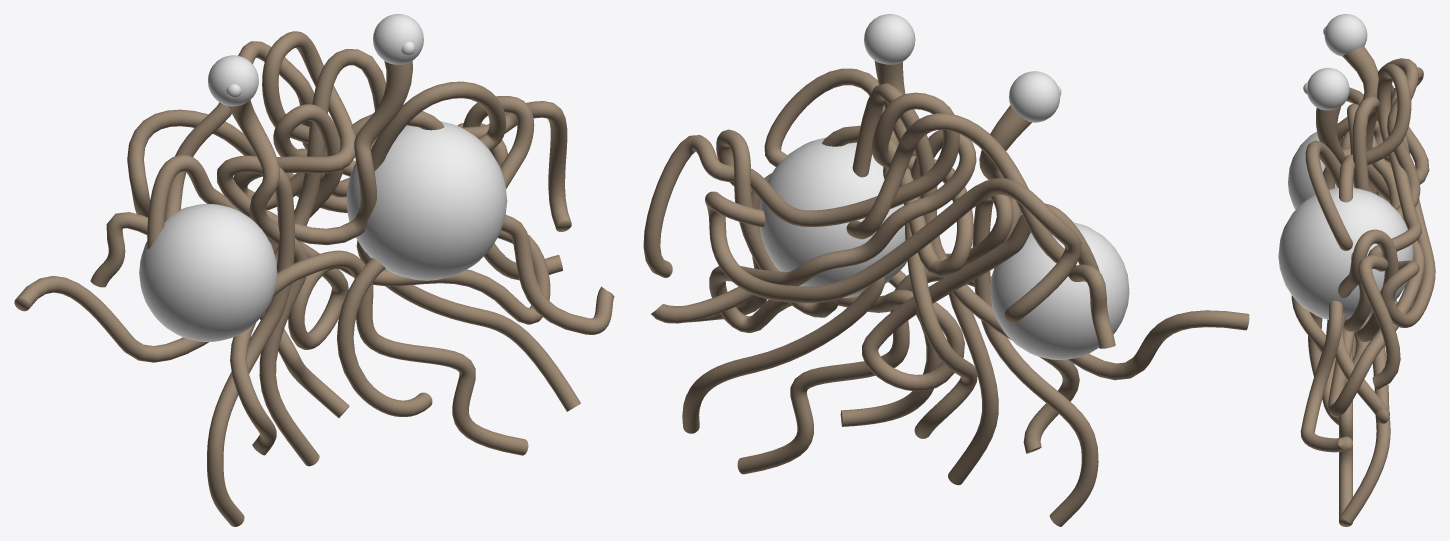
The model's file is flying-spaghetti-monster.fbx.
The picture shows the model from 3 angles, left to right: view 1: azimuth 30°, elevation 25°; view 2: azimuth 150°, elevation 25°; view 3: azimuth 270°, elevation 25°; orthographic projection. The views are drawn at different scales.
Visible parts, largest first — view 1: meatballLeft, meatballRite, noodle8, noodle2, noodle6, noodle1, noodle9, noodle7, noodle4, noodle5, noodle3, eyeLeft (+1 smaller); view 2: noodle9, noodle8, noodle2, meatballLeft, noodle7, meatballRite, noodle1, noodle6, noodle5, noodle3, noodle4, eyeLeft (+1 smaller); view 3: noodle2, meatballLeft, noodle7, noodle9, noodle8, noodle4, noodle3, noodle6, noodle1, eyeLeft, eyeRite, noodle5 (+1 smaller).
Boxes of the visible parts, x1=… form: meatballLeft: x1=346, y1=121, x2=507, y2=280; meatballRite: x1=139, y1=204, x2=277, y2=341; noodle8: x1=147, y1=104, x2=550, y2=418; noodle2: x1=233, y1=31, x2=571, y2=231; noodle6: x1=207, y1=61, x2=412, y2=526; noodle1: x1=14, y1=250, x2=528, y2=455; noodle9: x1=90, y1=41, x2=507, y2=287; noodle7: x1=230, y1=49, x2=562, y2=455; noodle4: x1=337, y1=215, x2=614, y2=416; noodle5: x1=228, y1=100, x2=319, y2=466; noodle3: x1=356, y1=240, x2=580, y2=411; eyeLeft: x1=373, y1=14, x2=423, y2=64; noodle9: x1=705, y1=113, x2=1115, y2=348; noodle8: x1=709, y1=130, x2=1099, y2=438; noodle2: x1=643, y1=68, x2=973, y2=277; meatballLeft: x1=759, y1=137, x2=907, y2=297; noodle7: x1=654, y1=83, x2=1079, y2=453; meatballRite: x1=990, y1=222, x2=1129, y2=359; noodle1: x1=737, y1=267, x2=1249, y2=474; noodle6: x1=874, y1=61, x2=1098, y2=526; noodle5: x1=948, y1=105, x2=1031, y2=485; noodle3: x1=682, y1=276, x2=885, y2=433; noodle4: x1=651, y1=173, x2=941, y2=426; eyeLeft: x1=864, y1=14, x2=915, y2=64; noodle2: x1=1305, y1=64, x2=1421, y2=389; meatballLeft: x1=1278, y1=187, x2=1413, y2=319; noodle7: x1=1291, y1=96, x2=1398, y2=423; noodle9: x1=1378, y1=58, x2=1435, y2=327; noodle8: x1=1328, y1=103, x2=1424, y2=416; noodle4: x1=1300, y1=252, x2=1371, y2=452; noodle3: x1=1340, y1=329, x2=1390, y2=523; noodle6: x1=1308, y1=106, x2=1382, y2=376; noodle1: x1=1339, y1=87, x2=1363, y2=526; eyeLeft: x1=1303, y1=67, x2=1349, y2=110; eyeRite: x1=1323, y1=14, x2=1367, y2=56; noodle5: x1=1337, y1=46, x2=1378, y2=358.
Bounding box in the file's own units: 592 × 455 × 161.
